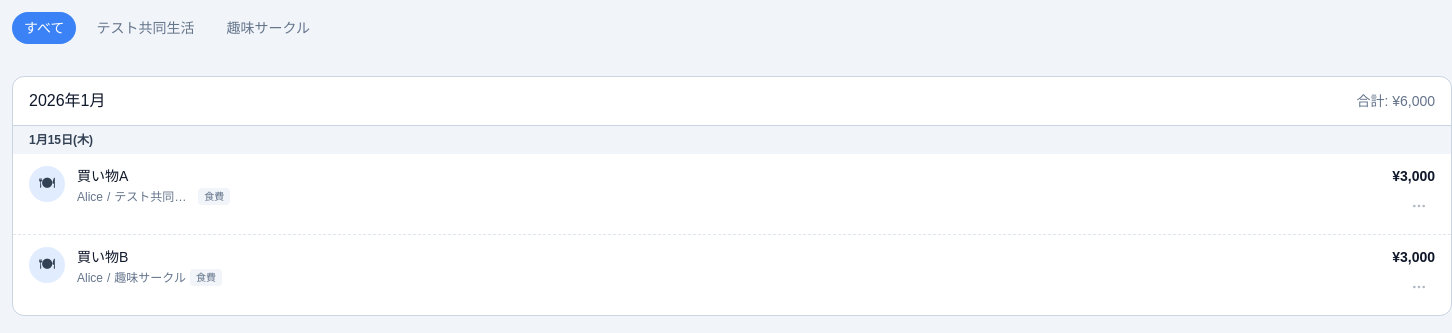
PaymentListWithFilter › フィルタリング › グループをクリックするとそのグループの支払いのみ表示される
Click the button "趣味サークル".
click(268, 28)  # box [214,12,322,44]
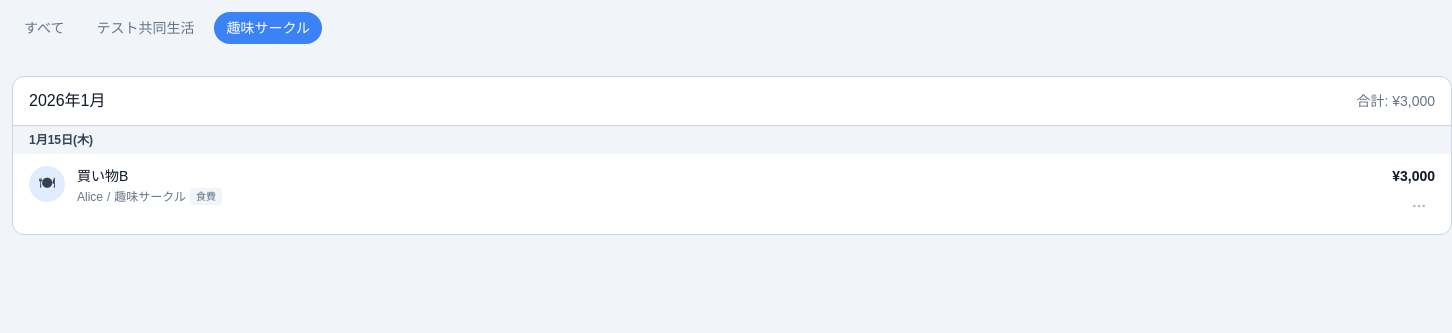
expect the text "買い物B" is shown: met, box [77,168,128,184]
expect the text "買い物A" is gone: met
